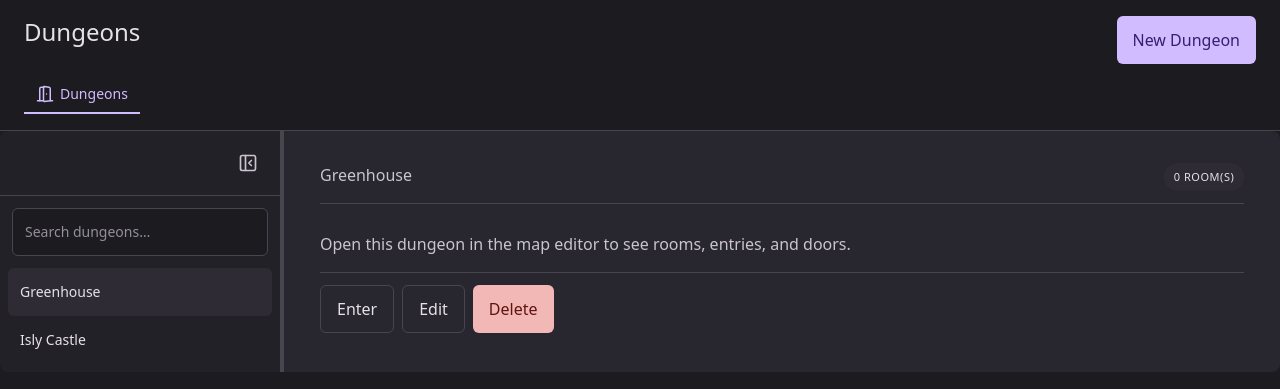
Test: DungeonBrowserPage › selecting a dungeon shows its title, room count, and map editor guidance
Expected: the heading "Greenhouse" is shown, [320,163,412,187]
Click the button "Isly Castle": {"x": 53, "y": 340} [8,316,272,364]
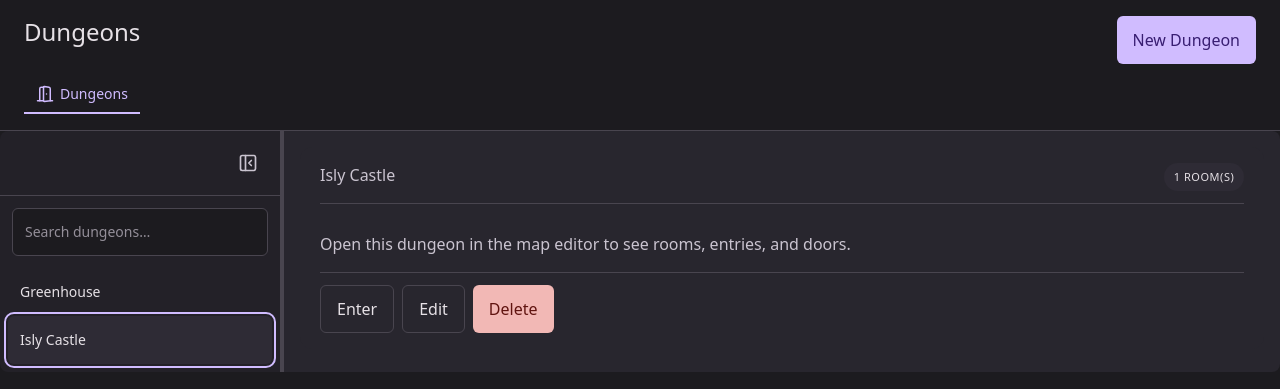
Expected: the text "Open this dungeon in the map editor" is shown, [320,233,851,255]
Result: the text "1 room(s)" is shown at [1164,163,1244,191]
